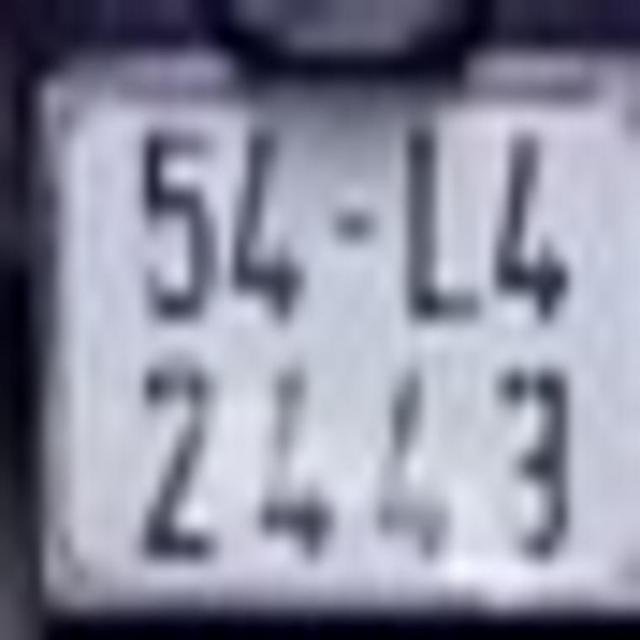2: (140, 360, 218, 564)
3: (494, 359, 574, 560)
4: (257, 358, 343, 566), (227, 122, 309, 325), (490, 126, 574, 322), (374, 361, 452, 562)
5: (140, 124, 218, 320)
L: (398, 122, 486, 320)
